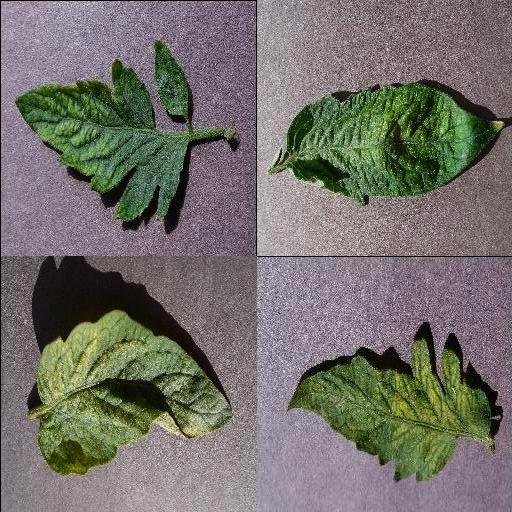Mosaic Virus: (11, 55, 191, 220), (285, 340, 491, 482)
Spider Mites: (35, 309, 229, 477), (283, 82, 505, 208)
